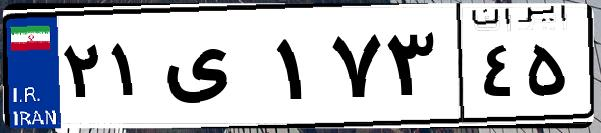1: (270, 28, 330, 110), (110, 28, 158, 98)
2: (57, 26, 110, 100)
3: (385, 28, 445, 110)
4: (475, 38, 525, 113)
5: (525, 38, 570, 115)
7: (330, 28, 385, 110)
ی: (158, 20, 270, 120)
